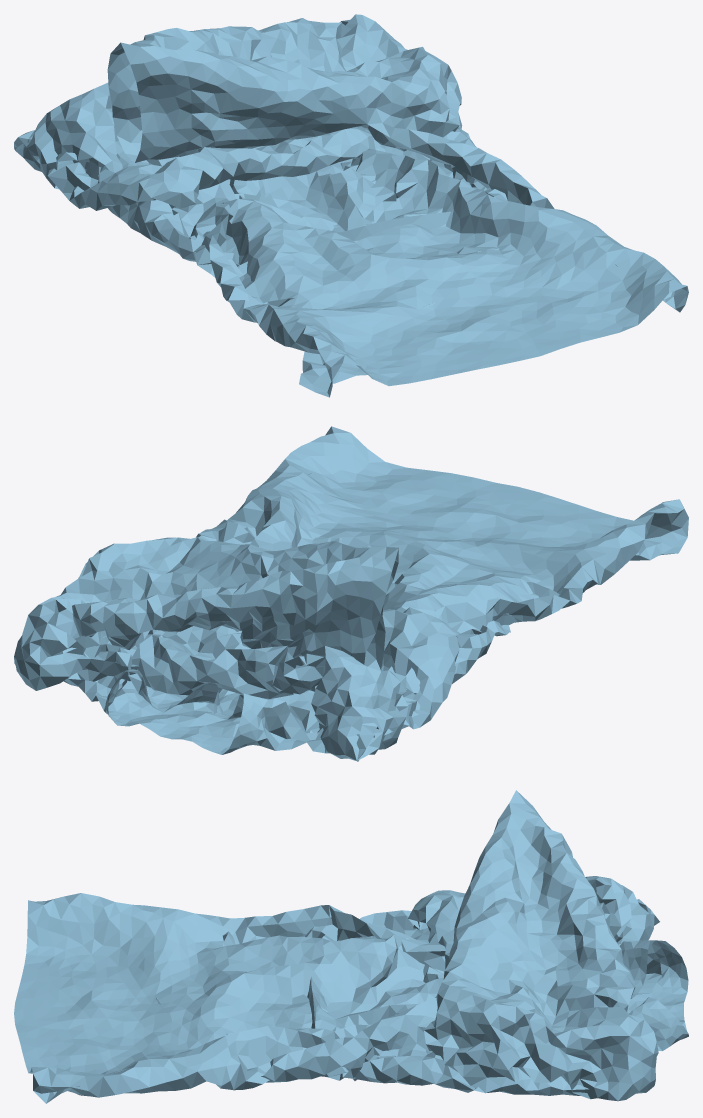
Rendered from frame_18.glb.
3 renders of one model, top to bottom at view 1: azimuth 30°, elevation 25°; view 2: azimuth 150°, elevation 25°; view 3: azimuth 270°, elevation 25°, orthographic. The views are drawn at different scales.
Parts seen in each view (by area): view 1: frame_18.obj; view 2: frame_18.obj; view 3: frame_18.obj.
Part boxes in pixels (bbox=[...]): frame_18.obj: bbox=[14, 14, 688, 397]; frame_18.obj: bbox=[14, 426, 688, 761]; frame_18.obj: bbox=[14, 790, 688, 1103].
Size of the model in its own units: 0.9088 by 0.3864 by 1.43.
